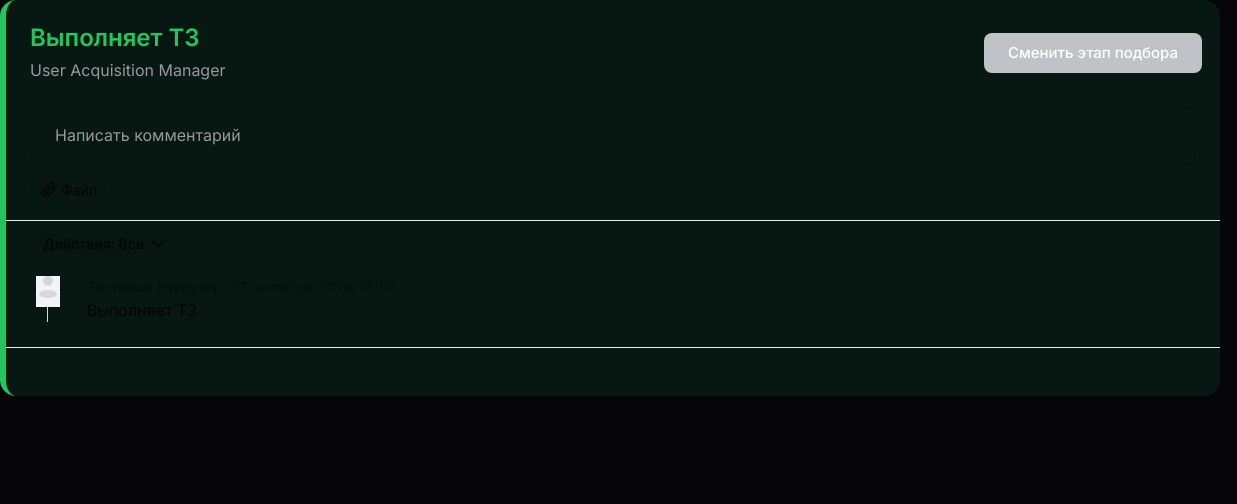
Test case: Пикер этапа: серая плашка на текущем этапе › выбран текущий этап — вместо комментария плашка, «Сохранить» недоступно
Click the button "Сменить этап подбора": (1093, 53) [984, 33, 1202, 73]
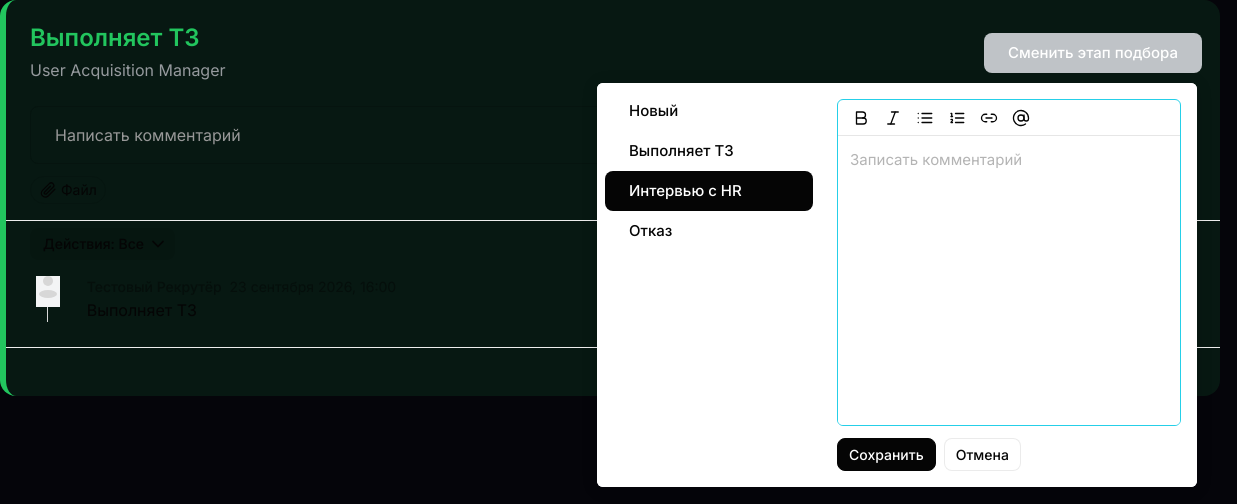
Click the button "Выполняет ТЗ": (709, 151) [605, 131, 813, 171]
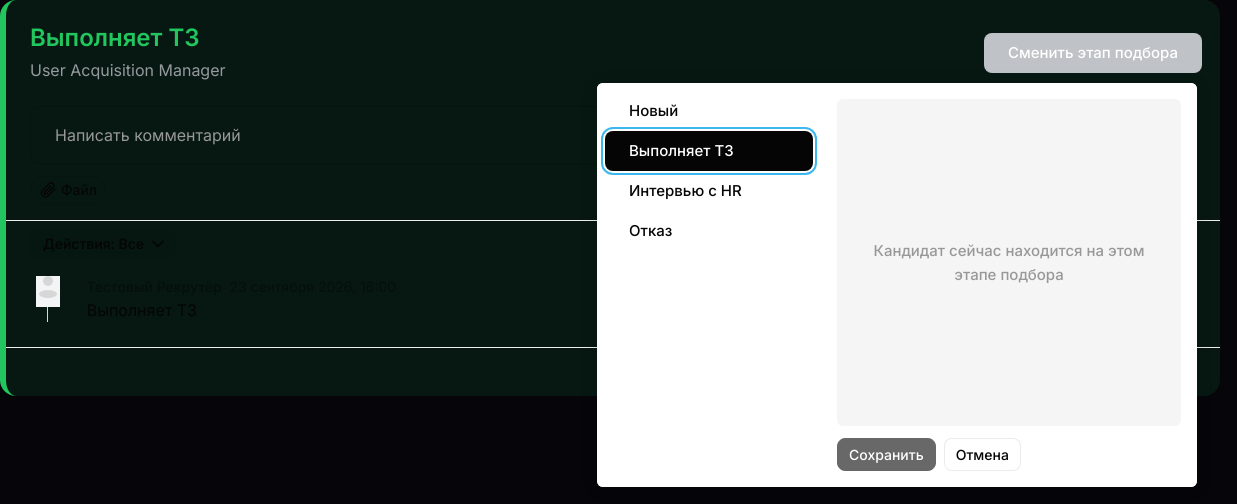
Expected: the text "Кандидат сейчас находится на этом этапе подбора" is shown, [837, 99, 1181, 426]
Expected: the button "Сохранить" is disabled, [837, 438, 936, 471]
